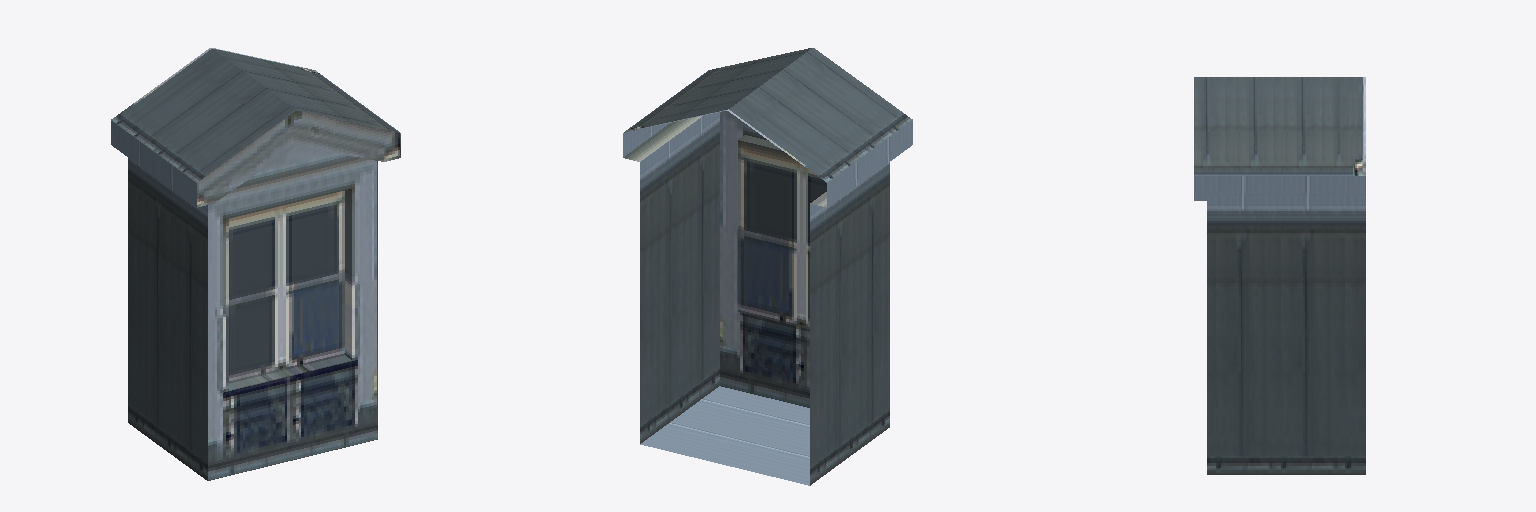
3 renders of one model, left to right at view 1: azimuth 30°, elevation 25°; view 2: azimuth 150°, elevation 25°; view 3: azimuth 270°, elevation 25°, orthographic.
Parts seen in each view (by area): view 1: pCube1; view 2: pCube1; view 3: pCube1.
Part boxes in pixels (bbox=[...]): pCube1: bbox=[111, 48, 400, 480]; pCube1: bbox=[623, 48, 912, 485]; pCube1: bbox=[1194, 77, 1365, 474].
Bounding box in the file's own units: 1.77 × 2.94 × 1.29.
Materials: 1 (1 with a texture image).